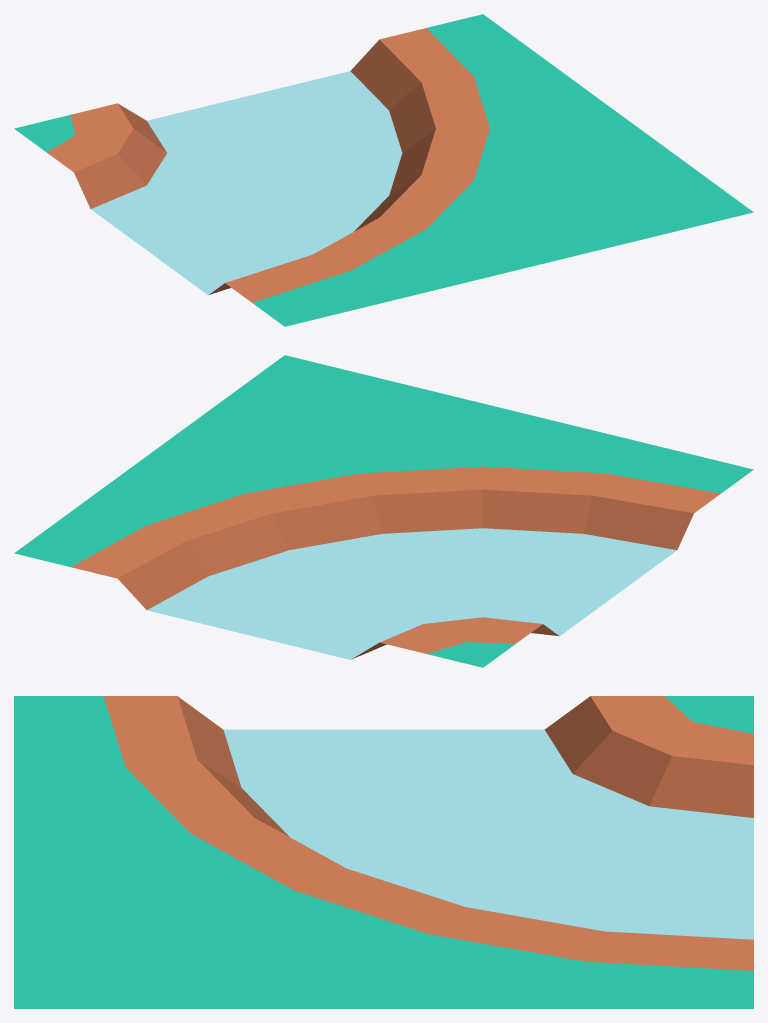
The model's file is riverBend.obj.
The picture shows the model from 3 angles, top to bottom: view 1: azimuth 30°, elevation 25°; view 2: azimuth 150°, elevation 25°; view 3: azimuth 270°, elevation 25°; orthographic projection. The views are drawn at different scales.
Size of the model in its own units: 1 by 0.05 by 1.
